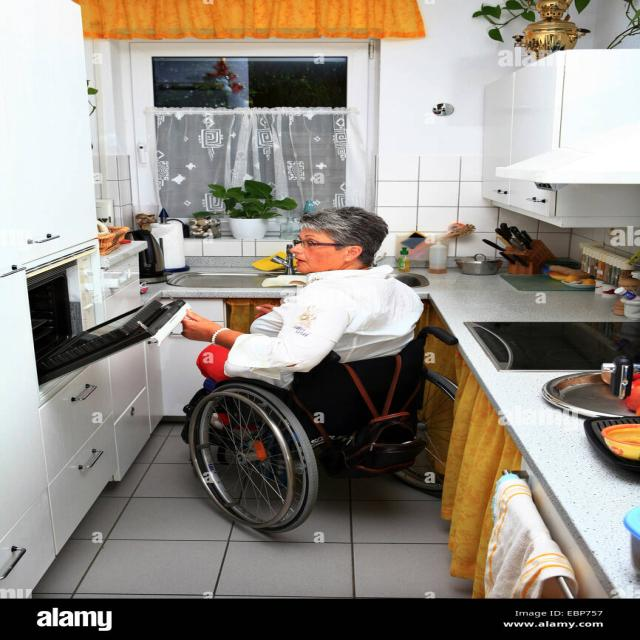wheelchairs: (175, 277, 462, 544)
